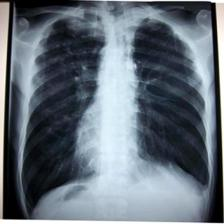tuberculosis: (18, 4, 214, 221)
